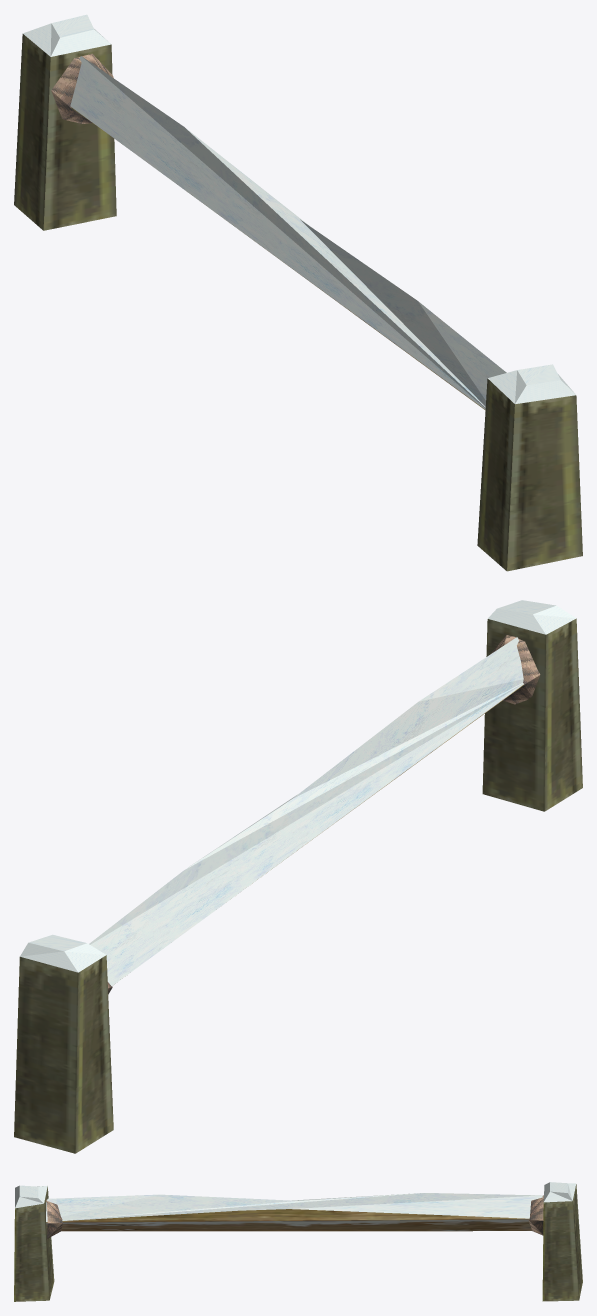
Rendered from C1SMTRAINBEAM.obj.
3 renders of one model, top to bottom at view 1: azimuth 30°, elevation 25°; view 2: azimuth 150°, elevation 25°; view 3: azimuth 270°, elevation 25°, orthographic. The views are drawn at different scales.
Parts seen in each view (by area): view 1: Node 0; view 2: Node 0; view 3: Node 0.
Boxes of the visible parts, box(x1,y1,x2,y2) form: Node 0: box(14, 14, 582, 571); Node 0: box(14, 600, 582, 1153); Node 0: box(14, 1182, 582, 1301).
Bounding box in the file's own units: 0.52 × 1.25 × 6.06.
4 materials, 4 textured.
